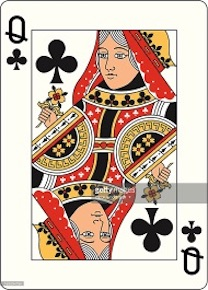QueenOfClubs: (1, 1, 207, 290)
